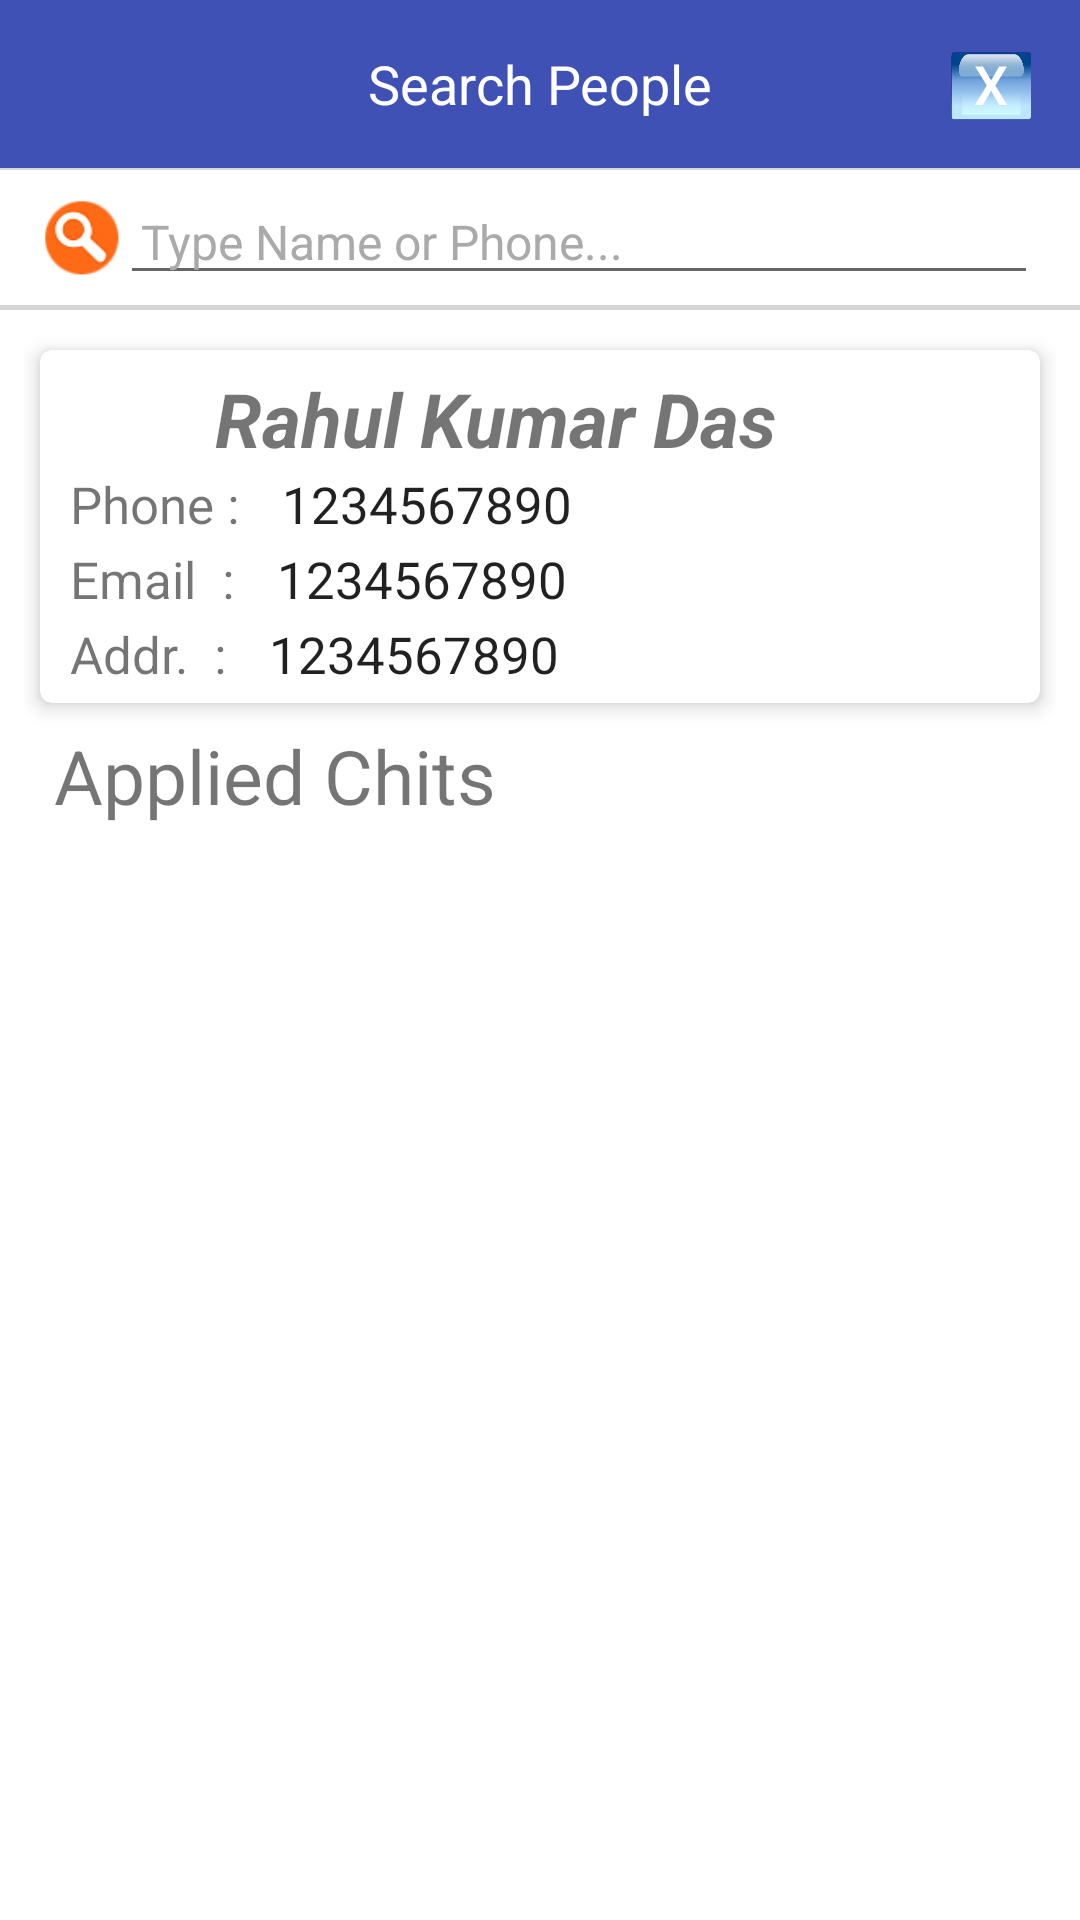

Icon click points for this 1080w x 1920h phone screenshot, format point (x, y):
search: point (82, 238)
